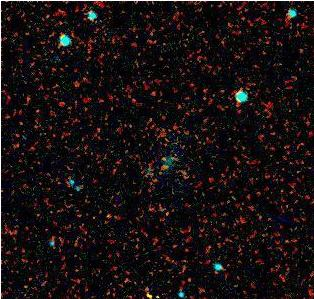star: (134, 277, 164, 299)
